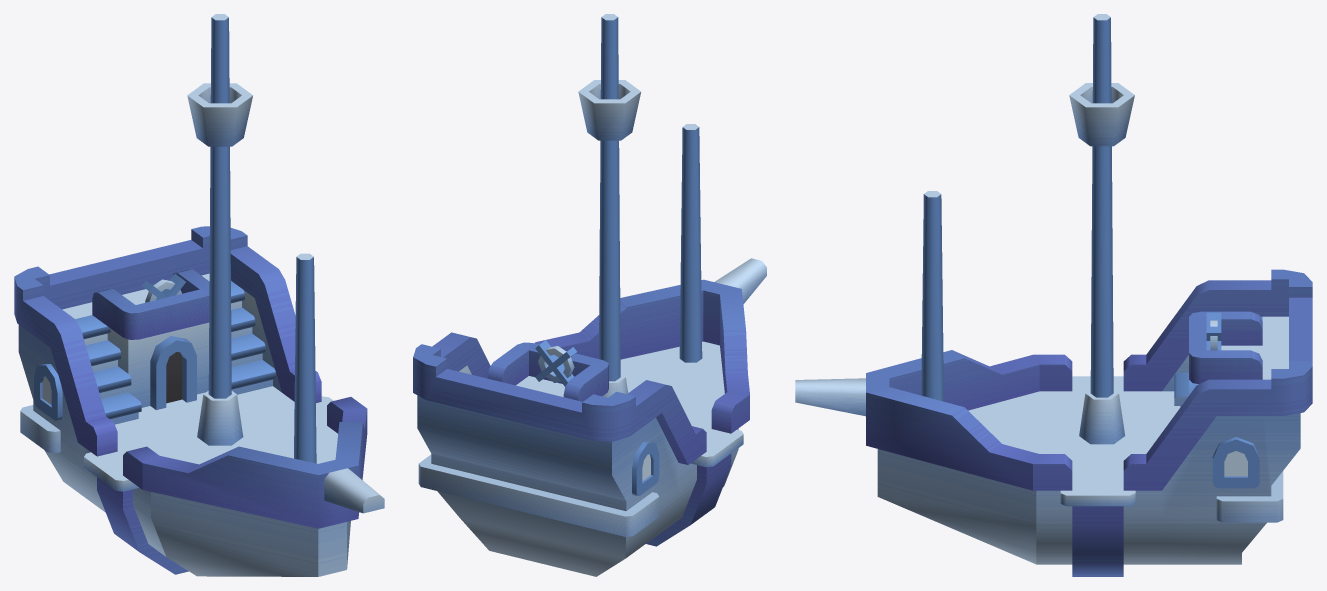
Rendered from ship_small_hull_blue.glb.
3 views of the same model, side by side, from view 1: azimuth 30°, elevation 25°; view 2: azimuth 150°, elevation 25°; view 3: azimuth 270°, elevation 25° (orthographic). The views are drawn at different scales.
Parts seen in each view (by area): view 1: ship_small_blue; view 2: ship_small_blue; view 3: ship_small_blue.
Boxes of the visible parts, <box> form: ship_small_blue: <box>14,14,384,576</box>; ship_small_blue: <box>413,14,766,576</box>; ship_small_blue: <box>795,14,1312,576</box>.
Bounding box in the file's own units: 4.8 × 9.96 × 8.8.
1 material, 1 textured.
